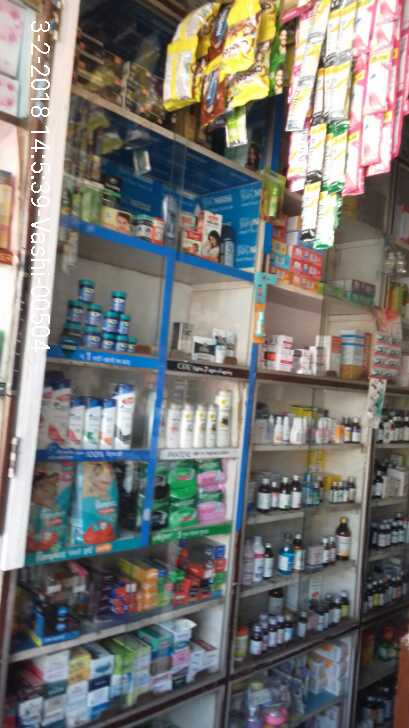beauty: (51, 380, 71, 450), (115, 382, 135, 450), (216, 388, 232, 448), (67, 398, 84, 450), (84, 399, 100, 450), (98, 400, 114, 450), (190, 336, 217, 365), (179, 401, 194, 448), (166, 403, 180, 448), (174, 324, 190, 360), (194, 404, 207, 448), (206, 403, 216, 449)
pharmacy: (29, 462, 72, 555), (74, 462, 118, 545), (168, 457, 198, 501), (194, 488, 227, 522), (193, 461, 229, 486), (168, 498, 197, 527), (62, 301, 84, 324), (75, 279, 96, 303), (109, 291, 129, 314), (83, 305, 102, 327), (99, 334, 118, 354), (81, 330, 102, 348), (103, 311, 117, 337), (118, 314, 131, 335), (125, 339, 139, 356), (115, 338, 127, 353)
